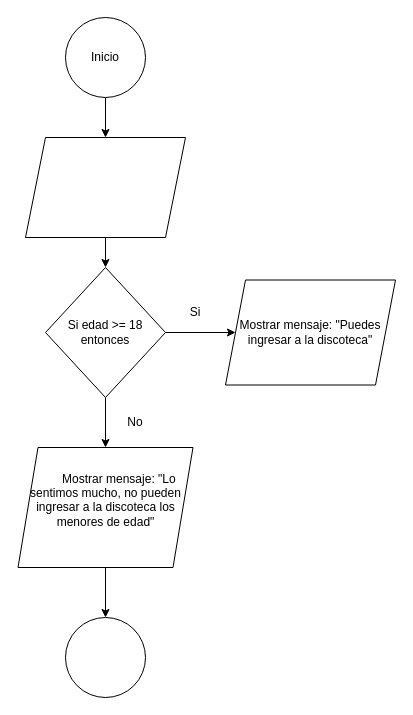
This 413x715 diagram has some shape labels left out. Each missing label, with the centre of its shape:
Fin: pixel 105 657
Mostrar mensaje: "¿Cuántos años tiene el cliente? ": pixel 105 187
